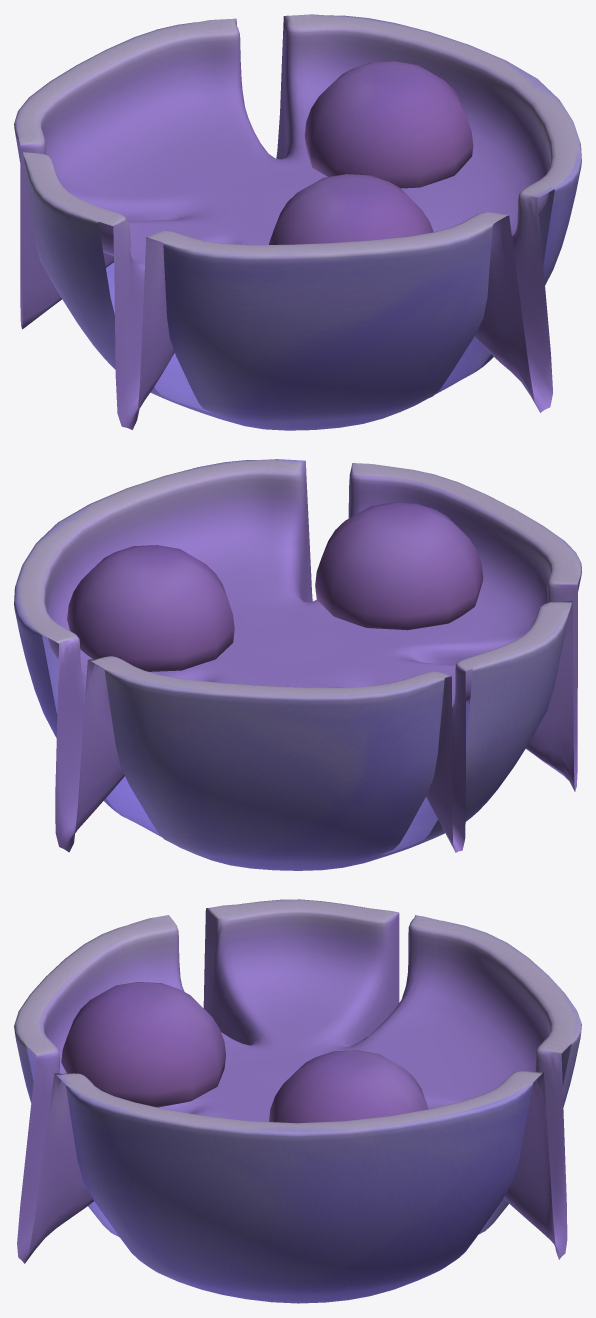
File: Nucleo.fbx
The picture shows the model from 3 angles, top to bottom: view 1: azimuth 30°, elevation 25°; view 2: azimuth 150°, elevation 25°; view 3: azimuth 270°, elevation 25°; orthographic projection. The views are drawn at different scales.
Visible parts, largest first — view 1: polySurface50, pSphere63, pSphere78; view 2: polySurface50, pSphere78, pSphere63; view 3: polySurface50, pSphere78, pSphere63.
Part boxes in pixels (x1,y1,x2,y2): polySurface50: [14, 14, 581, 430]; pSphere63: [304, 61, 473, 188]; pSphere78: [269, 174, 433, 244]; polySurface50: [14, 459, 581, 870]; pSphere78: [315, 502, 483, 630]; pSphere63: [67, 545, 234, 671]; polySurface50: [14, 899, 581, 1303]; pSphere78: [61, 982, 225, 1107]; pSphere63: [269, 1050, 428, 1123].
Size of the model in its own units: 4.48 by 2.33 by 4.57.
Materials: 2 (2 with a texture image).
